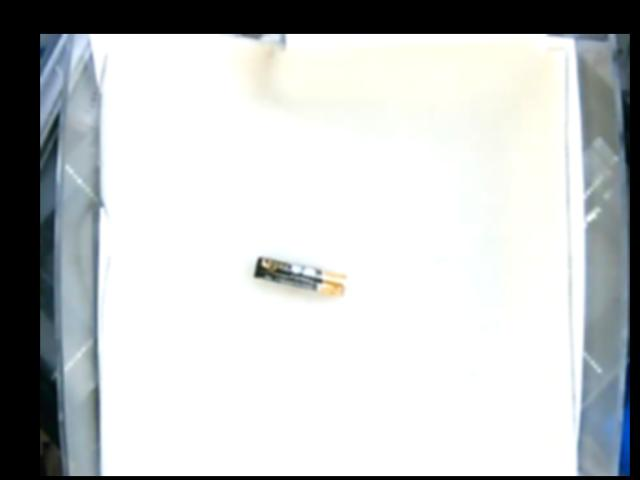Battery: (253, 255, 347, 295)
